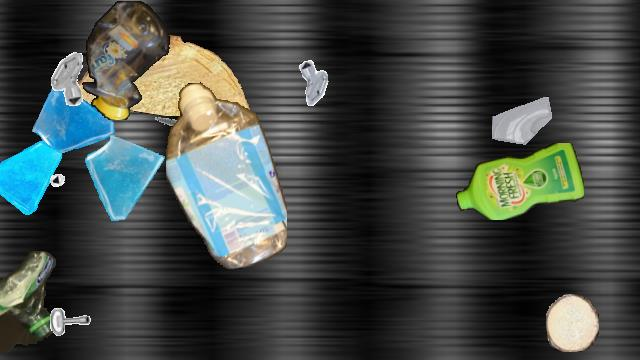glass: (79, 133, 171, 225), (31, 76, 119, 164), (0, 137, 62, 215), (492, 96, 554, 158)
metal: (37, 50, 95, 108), (44, 303, 100, 359), (292, 57, 340, 105), (150, 104, 194, 148), (47, 156, 85, 194)
plastic: (166, 81, 286, 269), (81, 1, 171, 119), (456, 143, 584, 219), (0, 249, 57, 359)
wood: (75, 35, 261, 115), (546, 294, 598, 352)
